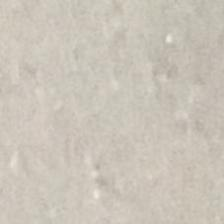Non_Crack: (46, 17, 152, 207)
